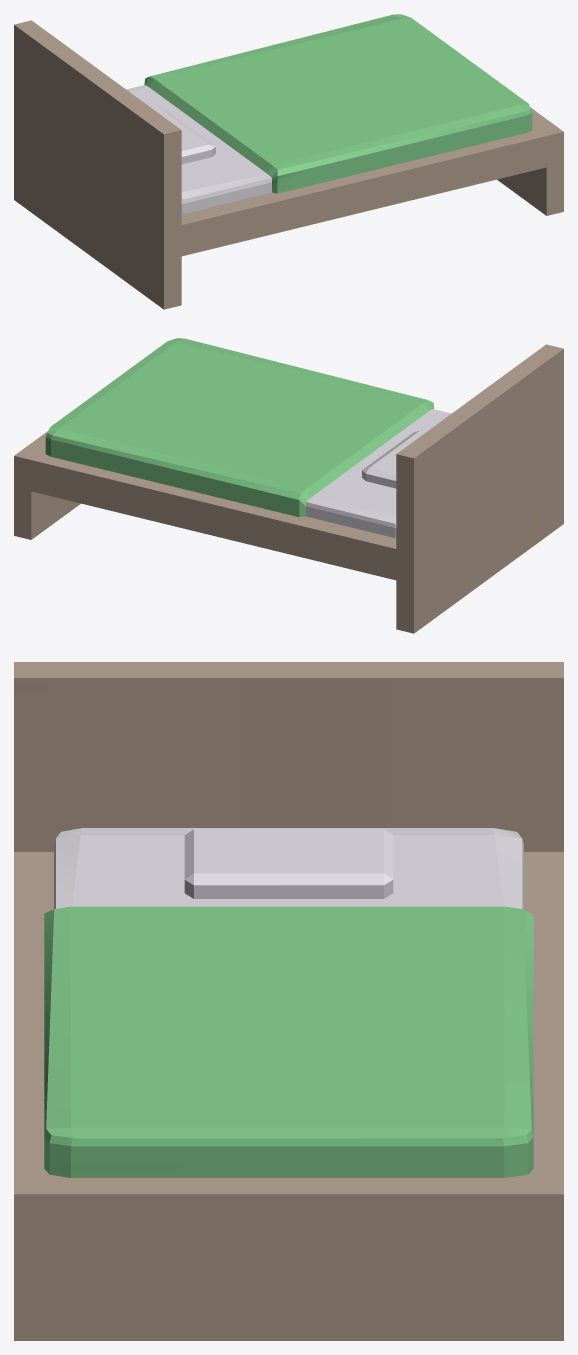
Rendered from Bed2.gltf.
3 views of the same model, one above another, from view 1: azimuth 30°, elevation 25°; view 2: azimuth 150°, elevation 25°; view 3: azimuth 270°, elevation 25° (orthographic). The views are drawn at different scales.
Parts seen in each view (by area): view 1: Cube.002; view 2: Cube.002; view 3: Cube.002.
Boxes of the visible parts, x1=… form: Cube.002: x1=14, y1=14, x2=563, y2=309; Cube.002: x1=14, y1=338, x2=563, y2=633; Cube.002: x1=14, y1=662, x2=563, y2=1340.
Size of the model in its own units: 3.54 by 1.48 by 2.3.
1 material, 1 textured.
